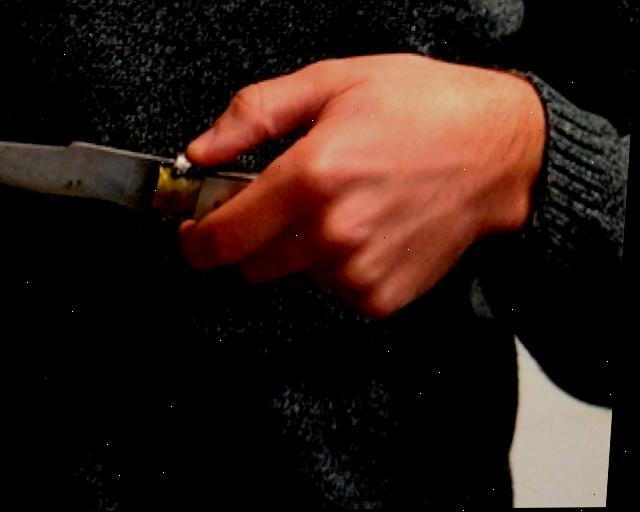pocket-knife: (0, 125, 281, 225)
